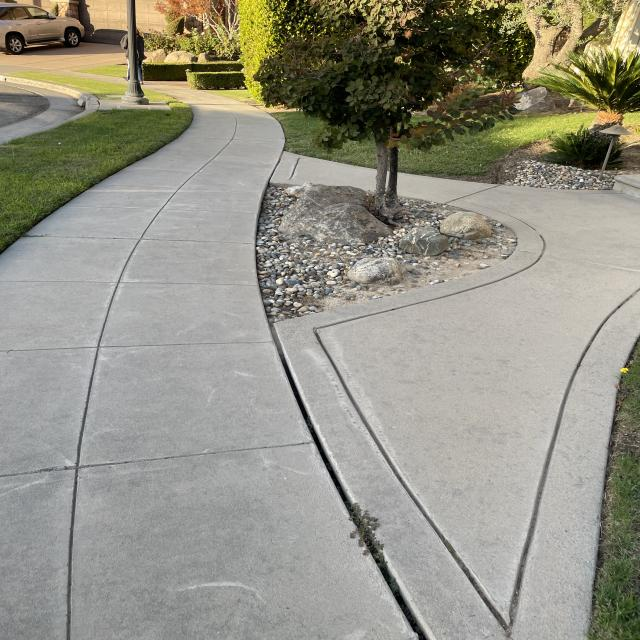R-walkway: (220, 321, 640, 640), (247, 297, 640, 484), (300, 249, 640, 352)
curve-walkway: (457, 189, 640, 281), (260, 154, 530, 212)
walkway: (6, 470, 428, 640), (0, 395, 331, 525), (0, 330, 291, 426), (0, 259, 267, 350), (12, 218, 258, 301), (55, 196, 260, 260), (83, 160, 267, 208), (182, 100, 292, 144), (167, 137, 298, 167)
